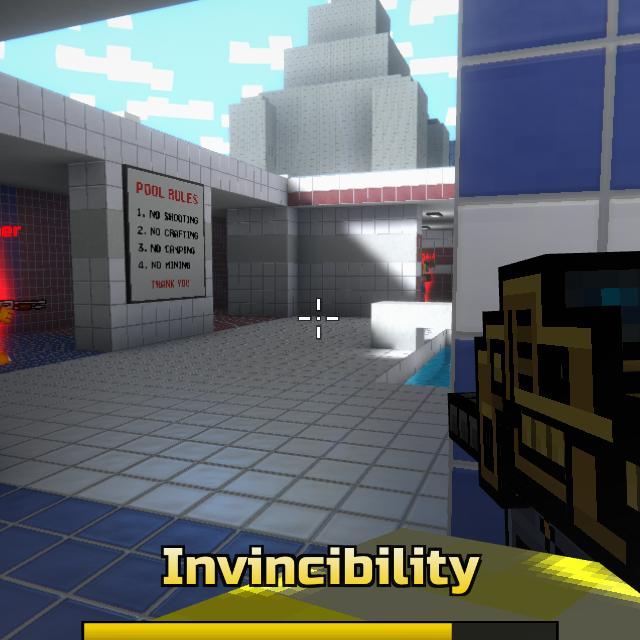Enemy: (0, 262, 13, 371), (420, 261, 431, 301)
